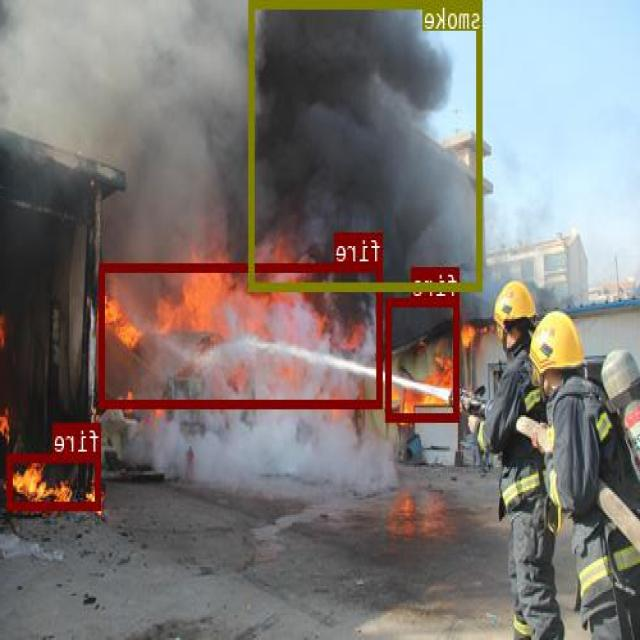fire: (100, 262, 384, 406), (387, 298, 461, 420), (9, 453, 101, 508)
smoke: (251, 0, 484, 288)
